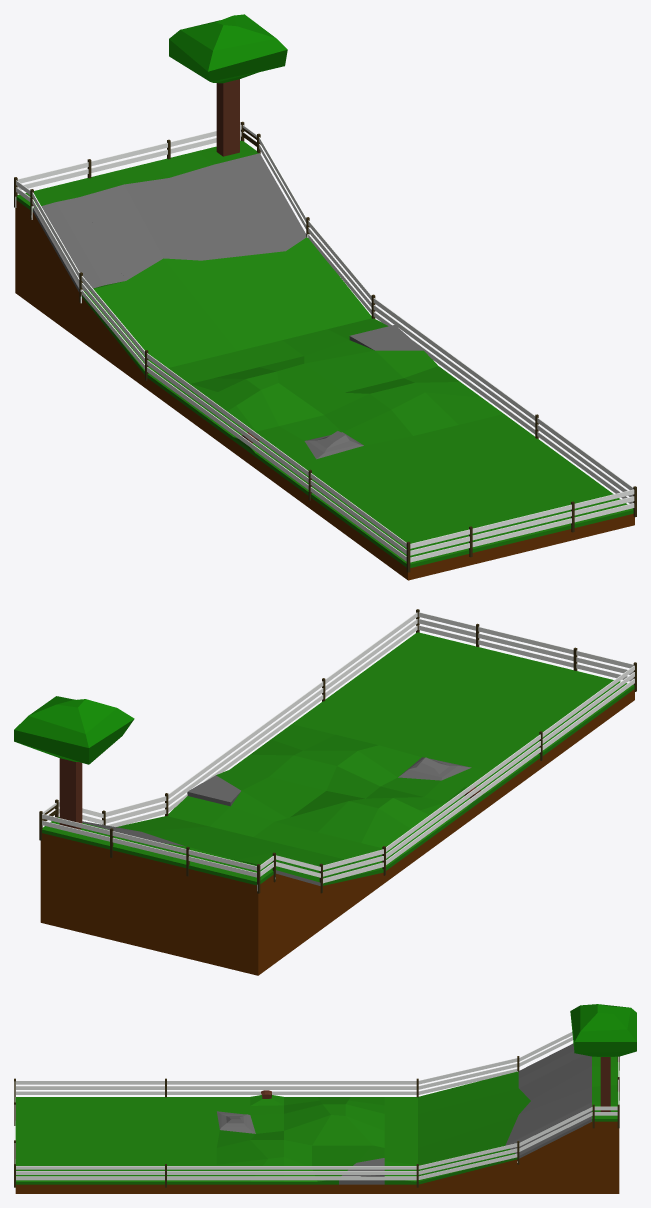
Rendered from Prairie.fbx.
3 views of the same model, one above another, from view 1: azimuth 30°, elevation 25°; view 2: azimuth 150°, elevation 25°; view 3: azimuth 270°, elevation 25° (orthographic). The views are drawn at different scales.
Parts seen in each view (by area): view 1: Cube, Cube.001; view 2: Cube, Cube.001; view 3: Cube, Cube.001.
Part boxes in pixels (box(x1,y1,x2,y2)): Cube: box(15, 14, 634, 580); Cube.001: box(14, 121, 636, 572); Cube: box(14, 632, 634, 975); Cube.001: box(39, 609, 636, 893); Cube: box(15, 1004, 636, 1193); Cube.001: box(14, 1032, 619, 1187).
Size of the model in its own units: 4310 by 3894 by 12381.
